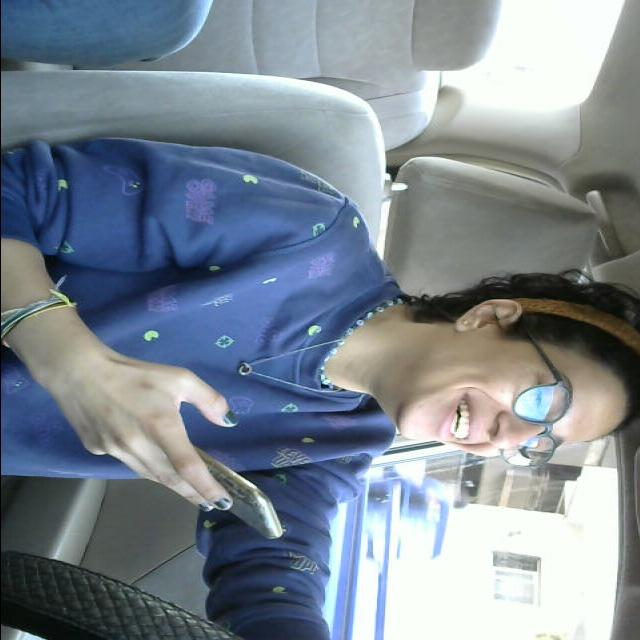mobile use: (148, 444, 284, 540)
